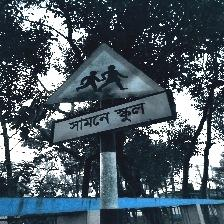School-in-front: (44, 42, 176, 145)
